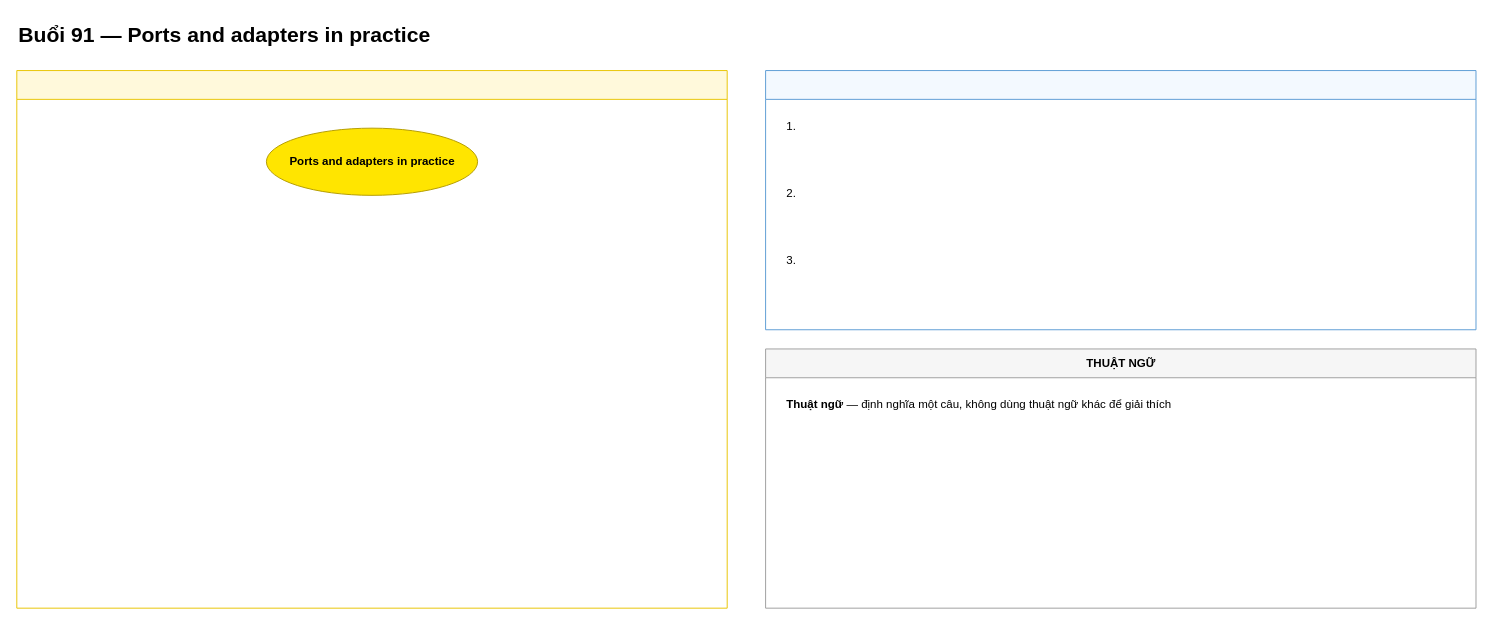
Some shapes in this 1493 by 625 pixel diagram are drawn without their labels. The shapes that lost their labels are listed below. From the top down, each one's box as (x1, y1, x2, y2) in pixels, then its label:
(765, 70, 1476, 330): KEY TAKEAWAY — ba điều phải nhớ
(16, 70, 727, 608): MINDMAP
